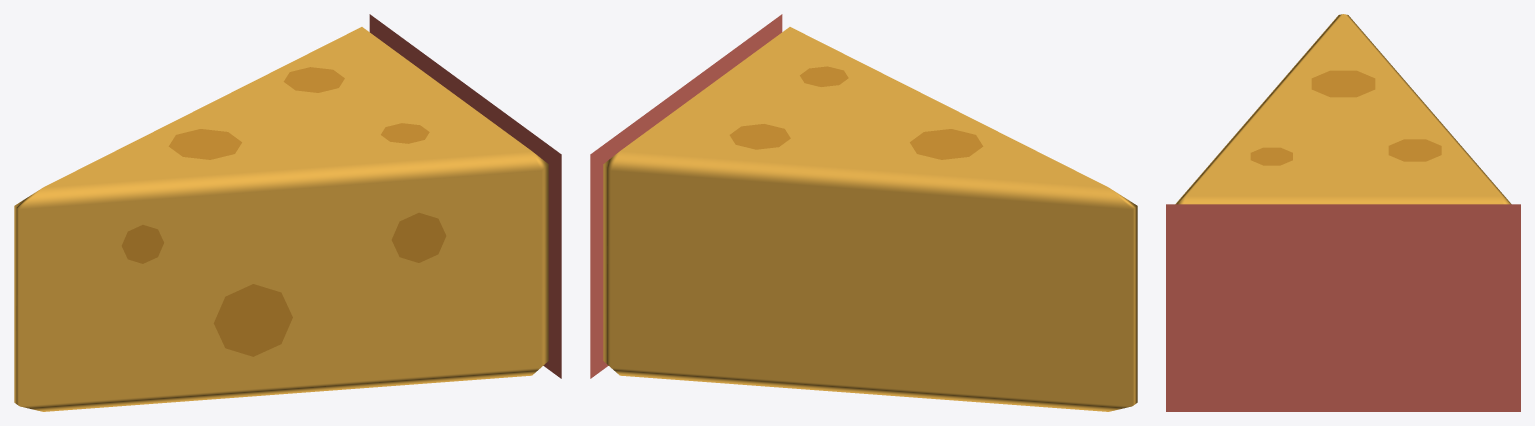
File: CM_Product_CheeseWedge.fbx
3 renders of one model, left to right at view 1: azimuth 30°, elevation 25°; view 2: azimuth 150°, elevation 25°; view 3: azimuth 270°, elevation 25°, orthographic. The views are drawn at different scales.
Visible parts, largest first — view 1: CheeseWedge; view 2: CheeseWedge; view 3: CheeseWedge.
Boxes of the visible parts, left/top/right/bottom form: CheeseWedge: left=14, top=14, right=561, bottom=411; CheeseWedge: left=590, top=14, right=1137, bottom=411; CheeseWedge: left=1166, top=14, right=1520, bottom=411.
Bounding box in the file's own units: 1.67 × 1.24 × 0.812.
1 material, 1 textured.
